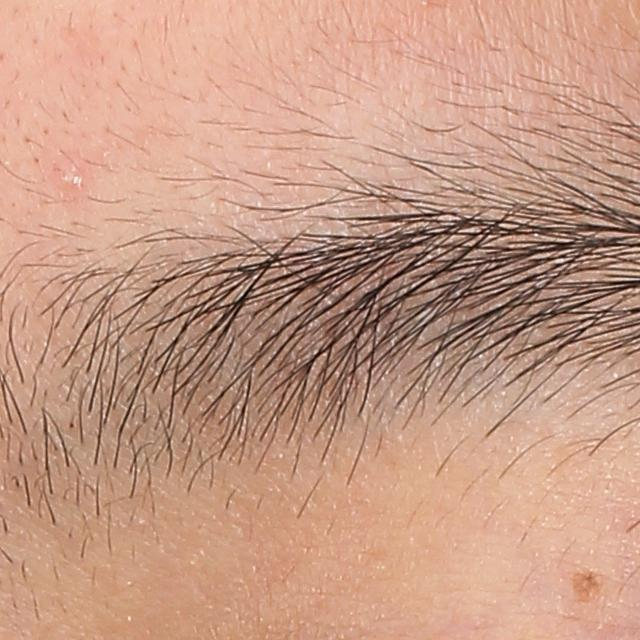nevus: (572, 568, 608, 604)
